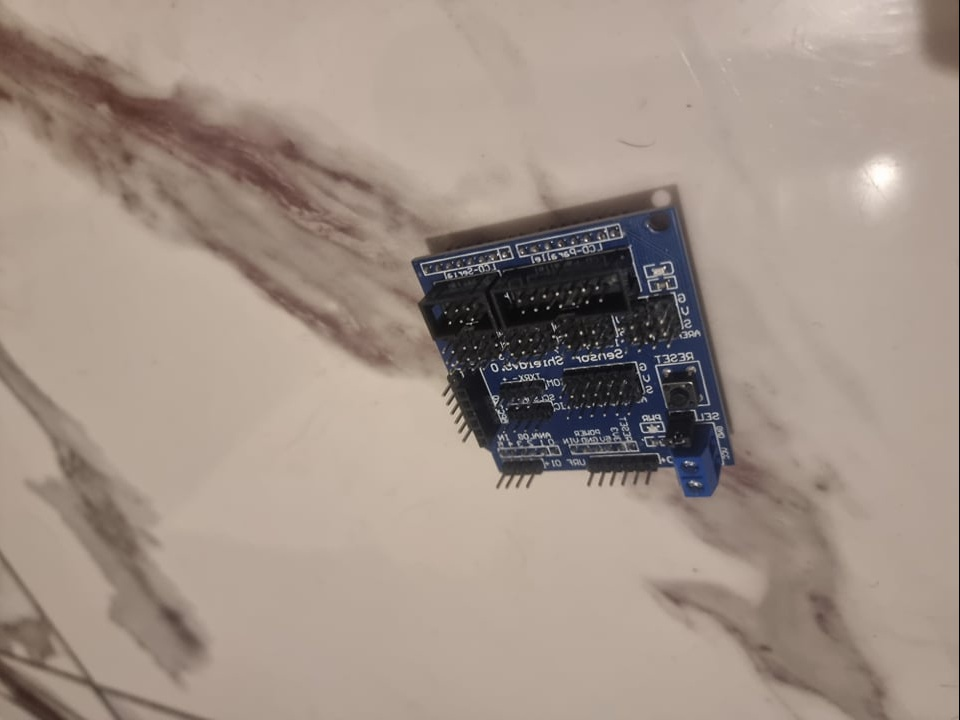5V EXPANSION: (410, 202, 739, 501)
